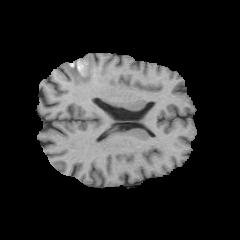glioma: (60, 54, 95, 86)
